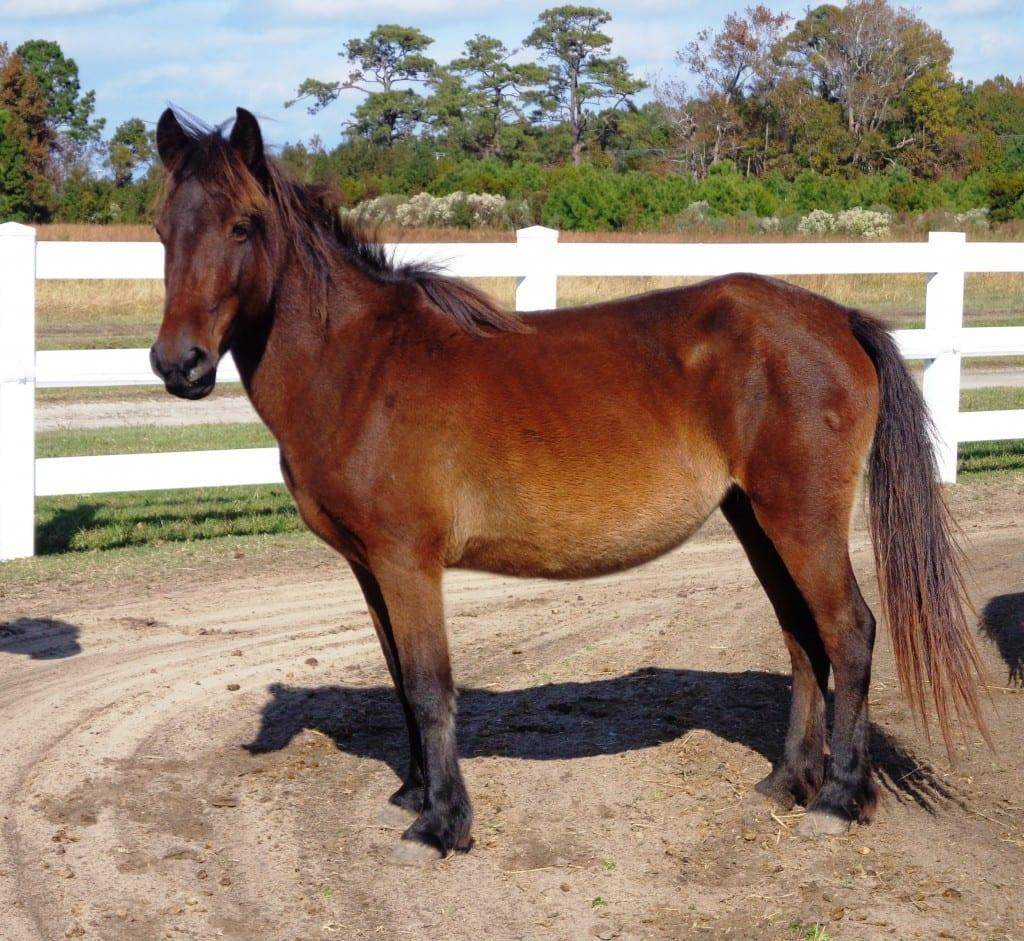horse: (135, 97, 1008, 870)
